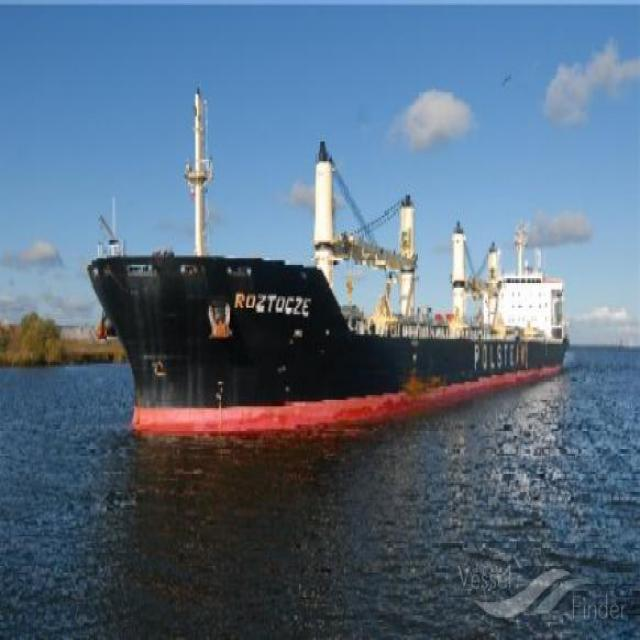Bulk Carrier: (88, 86, 568, 435)
